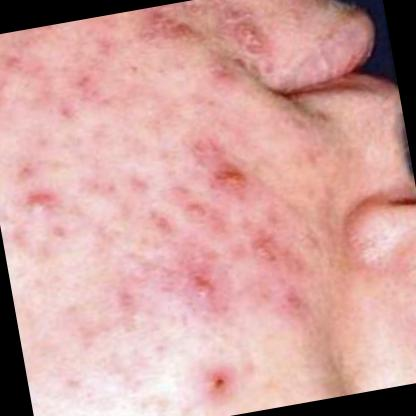Acne: (191, 354, 240, 404), (17, 183, 67, 228), (207, 162, 259, 203), (240, 232, 287, 276), (179, 270, 224, 308)
